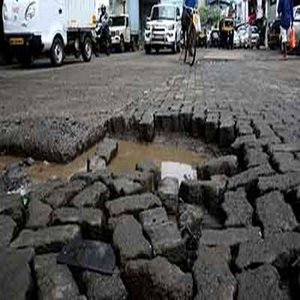pothole: (2, 112, 257, 194)
